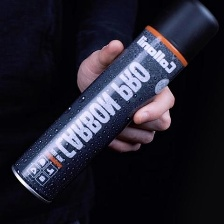aerosol_cans: (8, 0, 224, 209)
